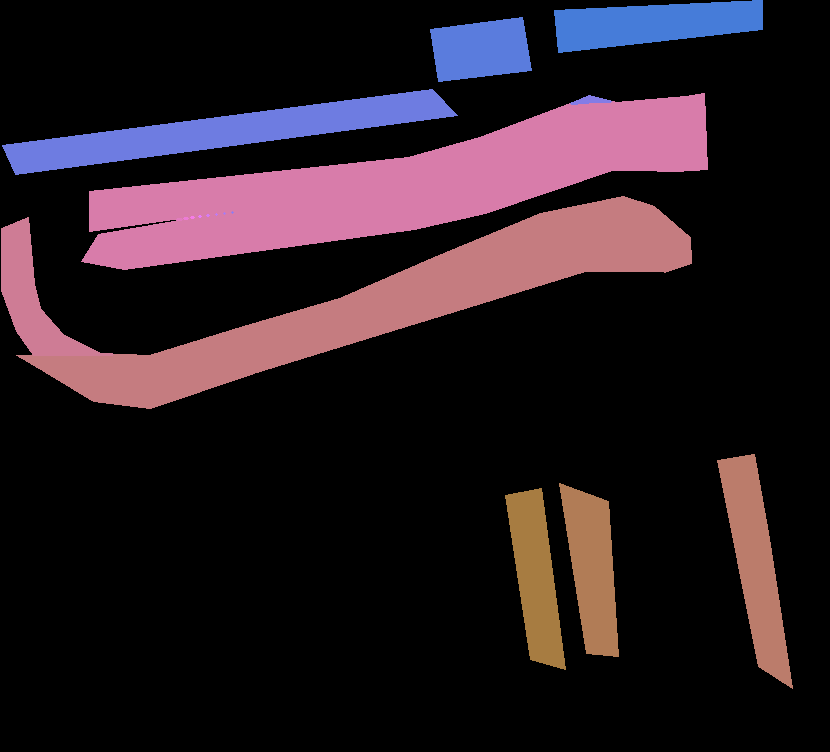parkingspot: (1, 196, 692, 408), (89, 93, 708, 231), (81, 134, 616, 269), (2, 89, 458, 174), (717, 454, 793, 688), (554, 0, 763, 53), (505, 488, 566, 669), (559, 483, 619, 656), (430, 17, 532, 82)
